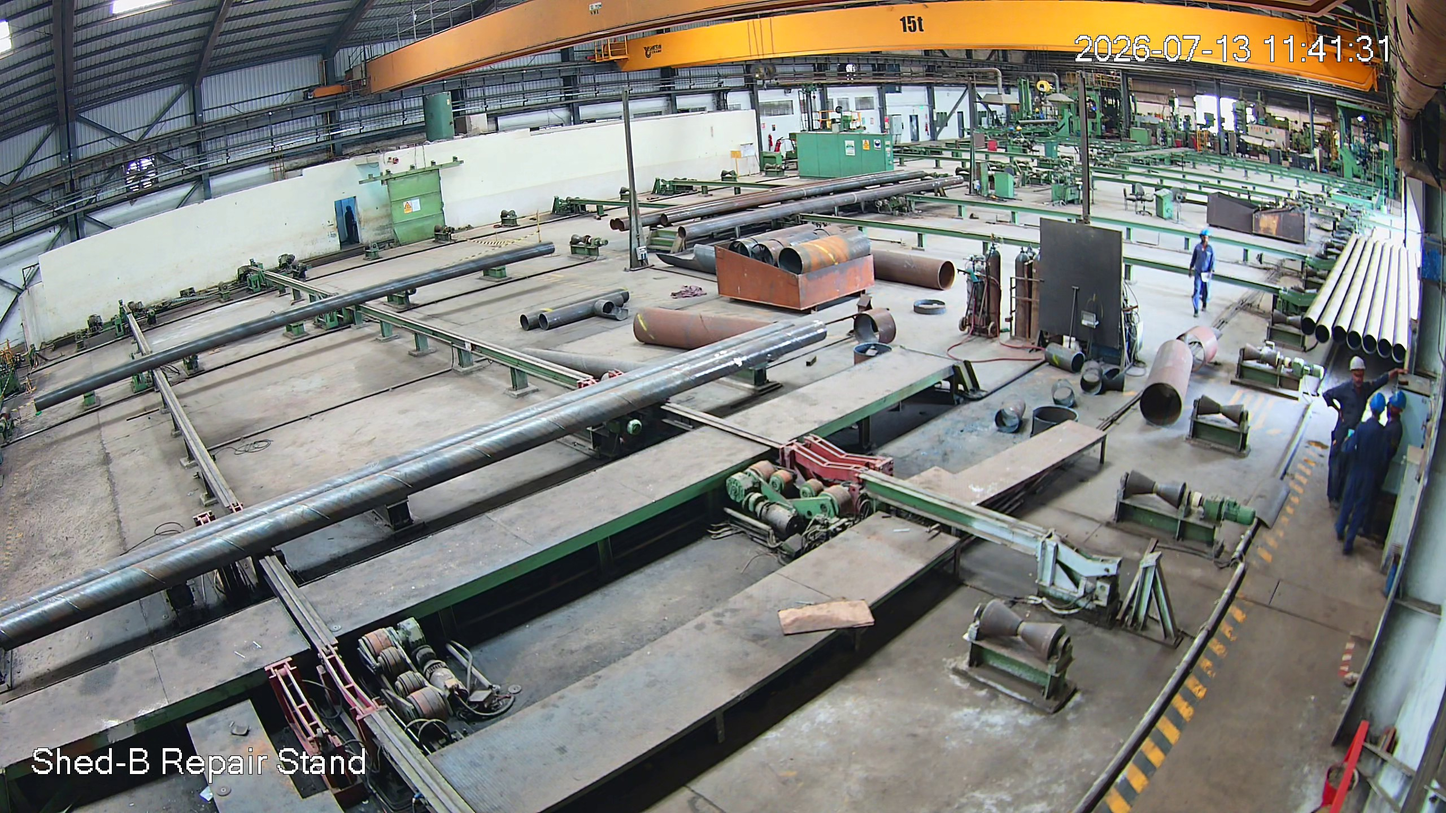Helmet: (1385, 389, 1409, 427), (1347, 354, 1374, 387), (1369, 390, 1387, 425), (1197, 229, 1217, 246)
Person: (1354, 392, 1407, 546), (1341, 393, 1389, 543), (1327, 356, 1375, 495), (1188, 231, 1217, 314)
